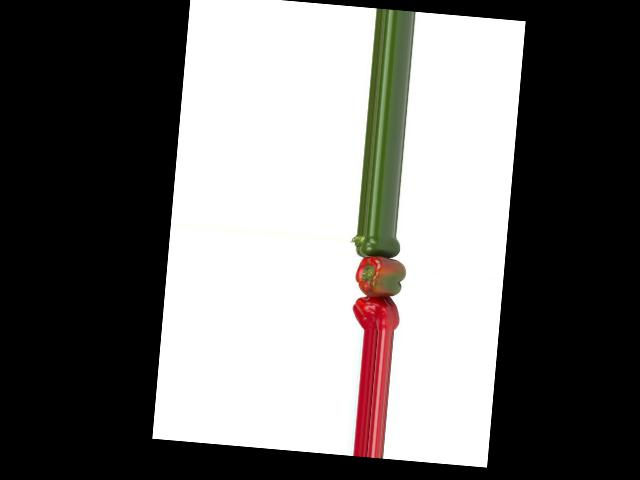bell_pepper: (347, 292, 404, 332)
